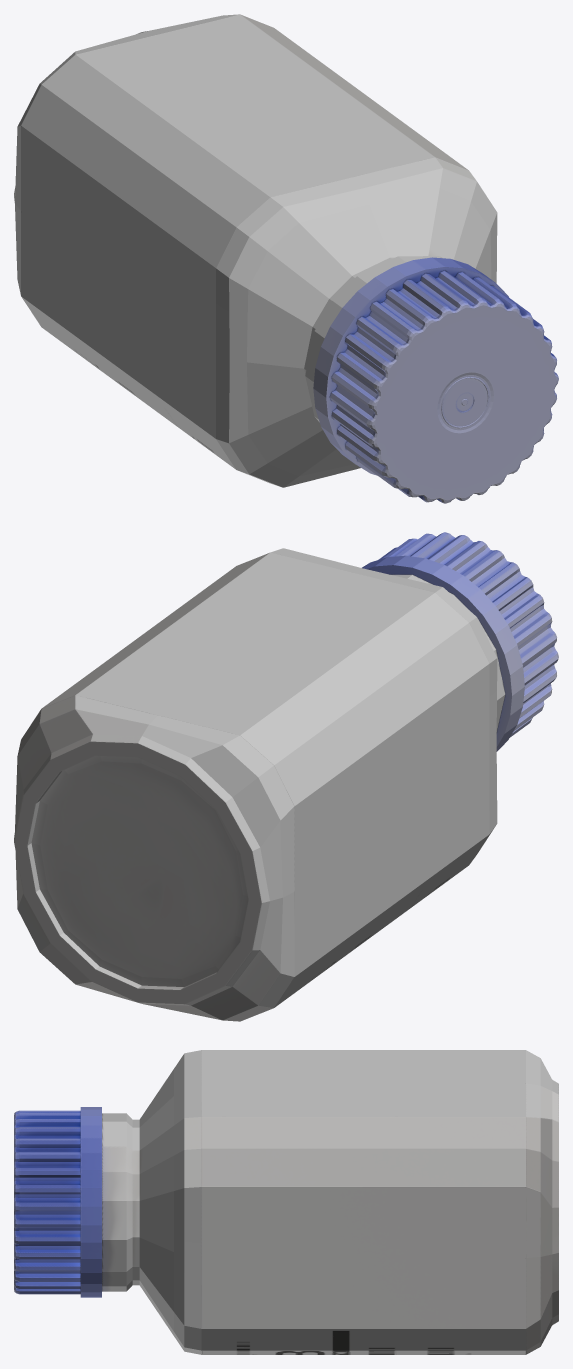
File: bottle.obj
The picture shows the model from 3 angles, top to bottom: view 1: azimuth 30°, elevation 25°; view 2: azimuth 150°, elevation 25°; view 3: azimuth 270°, elevation 25°; orthographic projection. The views are drawn at different scales.
Parts seen in each view (by area): view 1: bottle_Baked; view 2: bottle_Baked; view 3: bottle_Baked.
Part boxes in pixels (left/top/right/bottom): bottle_Baked: left=14, top=14, right=558, bottom=503; bottle_Baked: left=14, top=532, right=558, bottom=1021; bottle_Baked: left=14, top=1050, right=558, bottom=1354.
Size of the model in its own units: 0.04 by 0.04 by 0.083.
